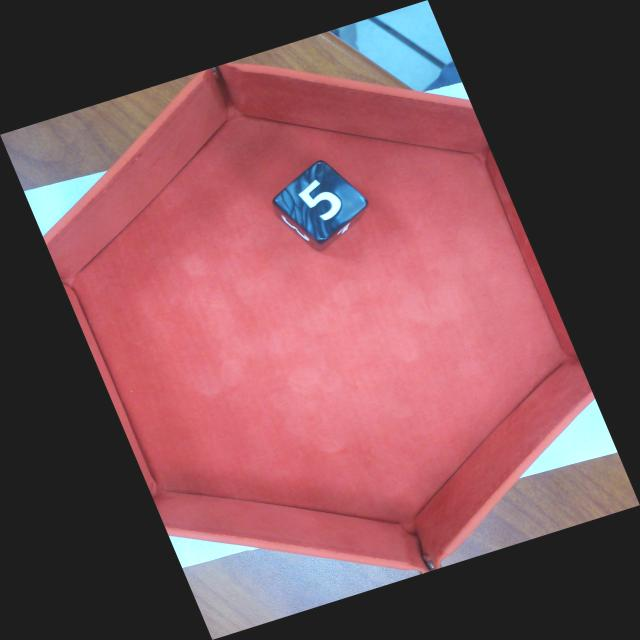dice: (281, 158, 372, 239)
